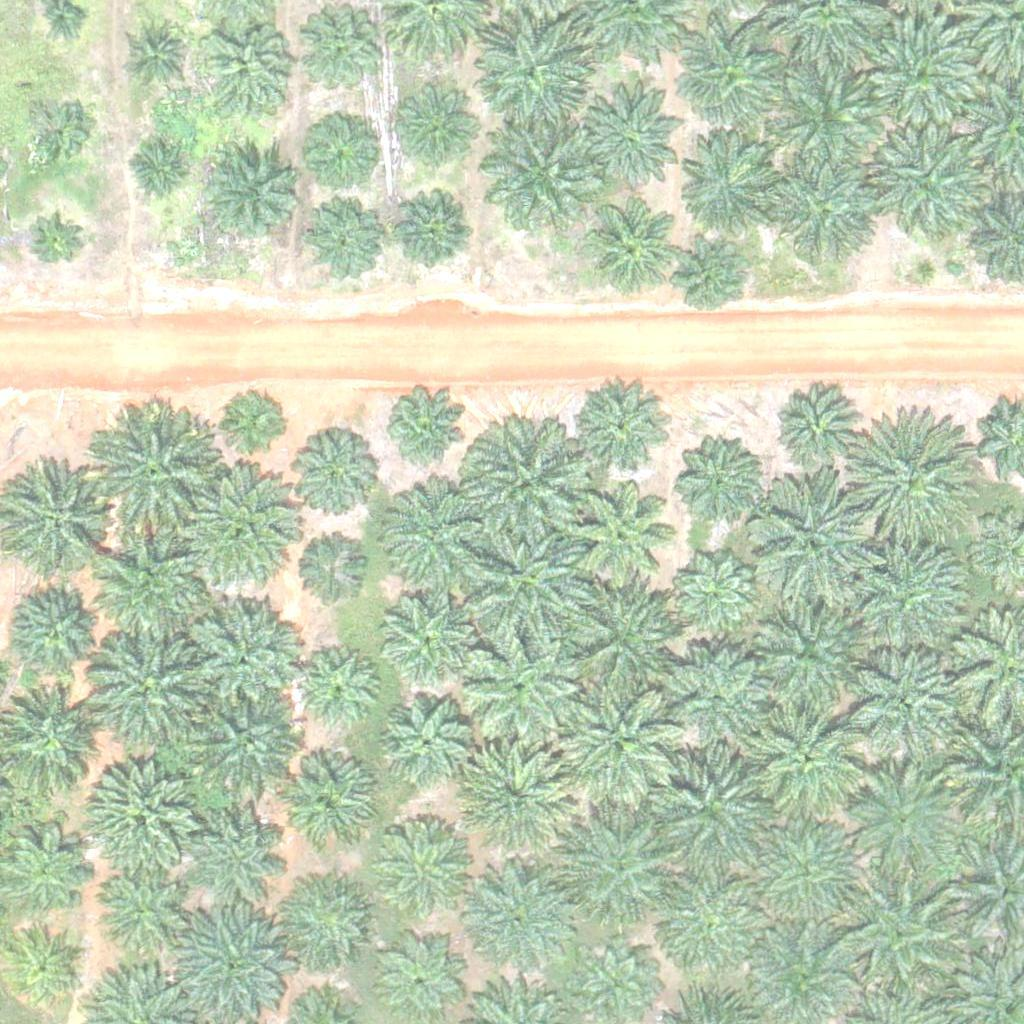Kelapa_Sawit: (848, 422, 973, 548), (835, 880, 960, 1006), (755, 480, 880, 606), (563, 681, 688, 807), (462, 421, 587, 547), (92, 416, 217, 542), (466, 515, 591, 640), (456, 743, 569, 857), (192, 471, 305, 585), (852, 544, 965, 657), (751, 821, 864, 934), (754, 705, 867, 818), (652, 752, 765, 865), (566, 814, 679, 927), (467, 628, 580, 741), (381, 476, 494, 589), (174, 906, 287, 1019), (95, 534, 208, 647), (86, 635, 199, 748), (83, 755, 196, 868), (769, 160, 882, 273), (771, 57, 884, 170), (673, 11, 786, 124), (483, 113, 596, 226), (855, 765, 967, 878), (748, 599, 860, 712), (651, 868, 763, 981), (568, 581, 680, 694), (458, 866, 570, 979), (192, 686, 304, 799), (187, 599, 299, 712), (868, 13, 980, 126), (871, 128, 983, 241), (575, 89, 687, 202), (474, 13, 586, 126), (853, 653, 953, 754), (668, 647, 768, 748), (575, 490, 675, 591), (573, 379, 673, 480), (190, 793, 290, 894), (10, 577, 110, 678), (679, 131, 779, 232), (199, 144, 299, 245), (279, 755, 379, 855), (5, 475, 105, 575), (289, 433, 377, 522), (380, 591, 468, 679), (290, 645, 378, 733), (89, 869, 177, 957), (583, 201, 671, 289), (202, 29, 290, 117), (381, 387, 468, 475), (383, 821, 470, 909), (382, 695, 469, 783), (284, 876, 371, 964), (388, 82, 475, 170), (291, 538, 366, 614), (780, 396, 855, 472), (681, 444, 756, 520), (679, 561, 754, 637), (386, 947, 461, 1023), (396, 198, 471, 274), (304, 20, 379, 96), (307, 202, 382, 278), (580, 937, 655, 1012), (304, 125, 367, 188), (128, 143, 191, 206), (225, 390, 288, 453), (23, 98, 86, 161), (678, 242, 741, 305), (29, 220, 79, 271), (131, 28, 181, 78), (44, 1, 81, 39)
